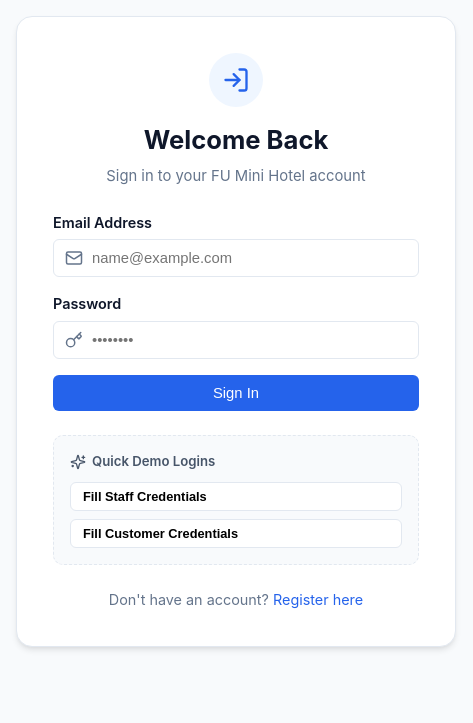
Test case: LoginPage Component › validates invalid email format
Type "not-an-email" into the field labelled "Email Address" at (236, 258), box [53,239,419,277]
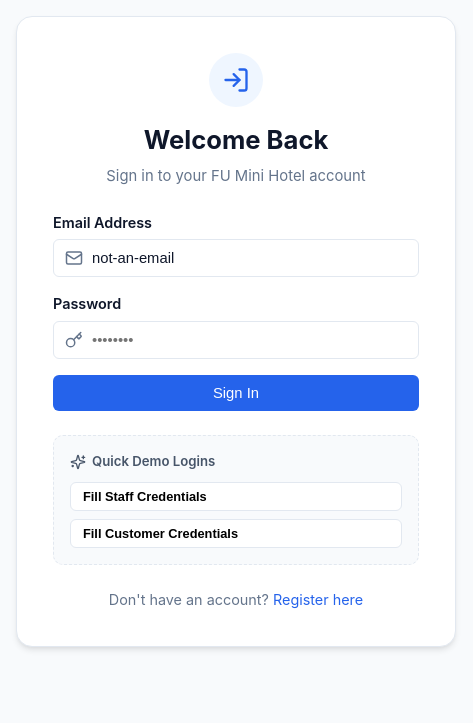
Click the button "Sign In" at (236, 393), box [53,375,419,411]
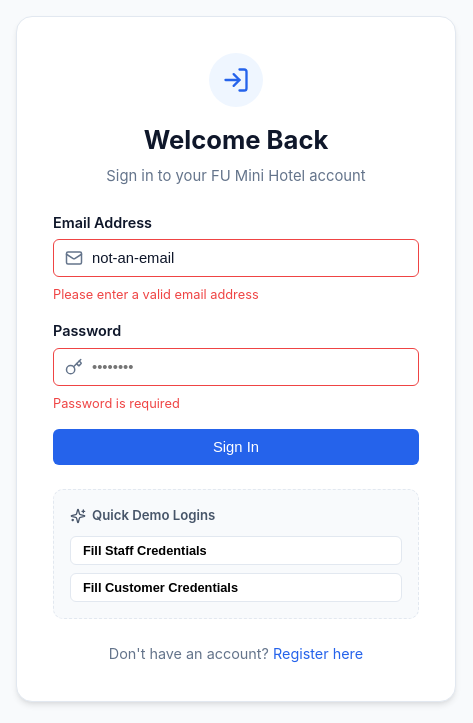
Check: the text "Please enter a valid email address" is shown, box [53,287,259,302]
